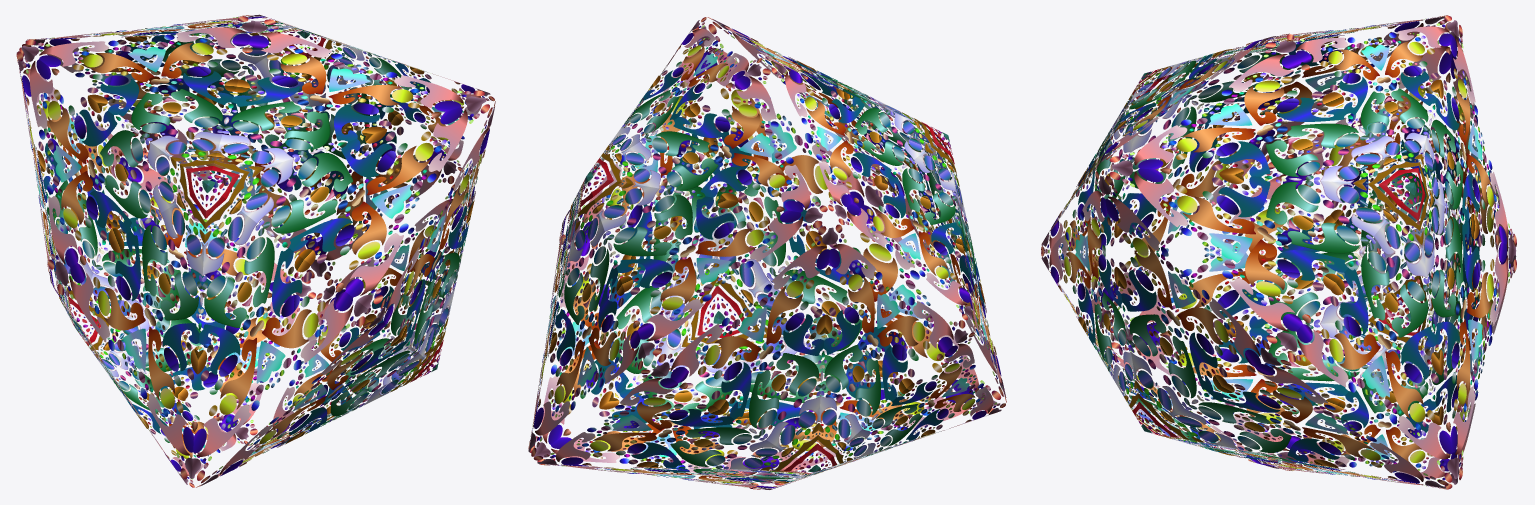
Rendered from HexakisTetrahedron.obj.
3 views of the same model, side by side, from view 1: azimuth 30°, elevation 25°; view 2: azimuth 150°, elevation 25°; view 3: azimuth 270°, elevation 25° (orthographic).
Size of the model in its own units: 9.9 by 9.85 by 9.9.
Materials: 1 (1 with a texture image).
